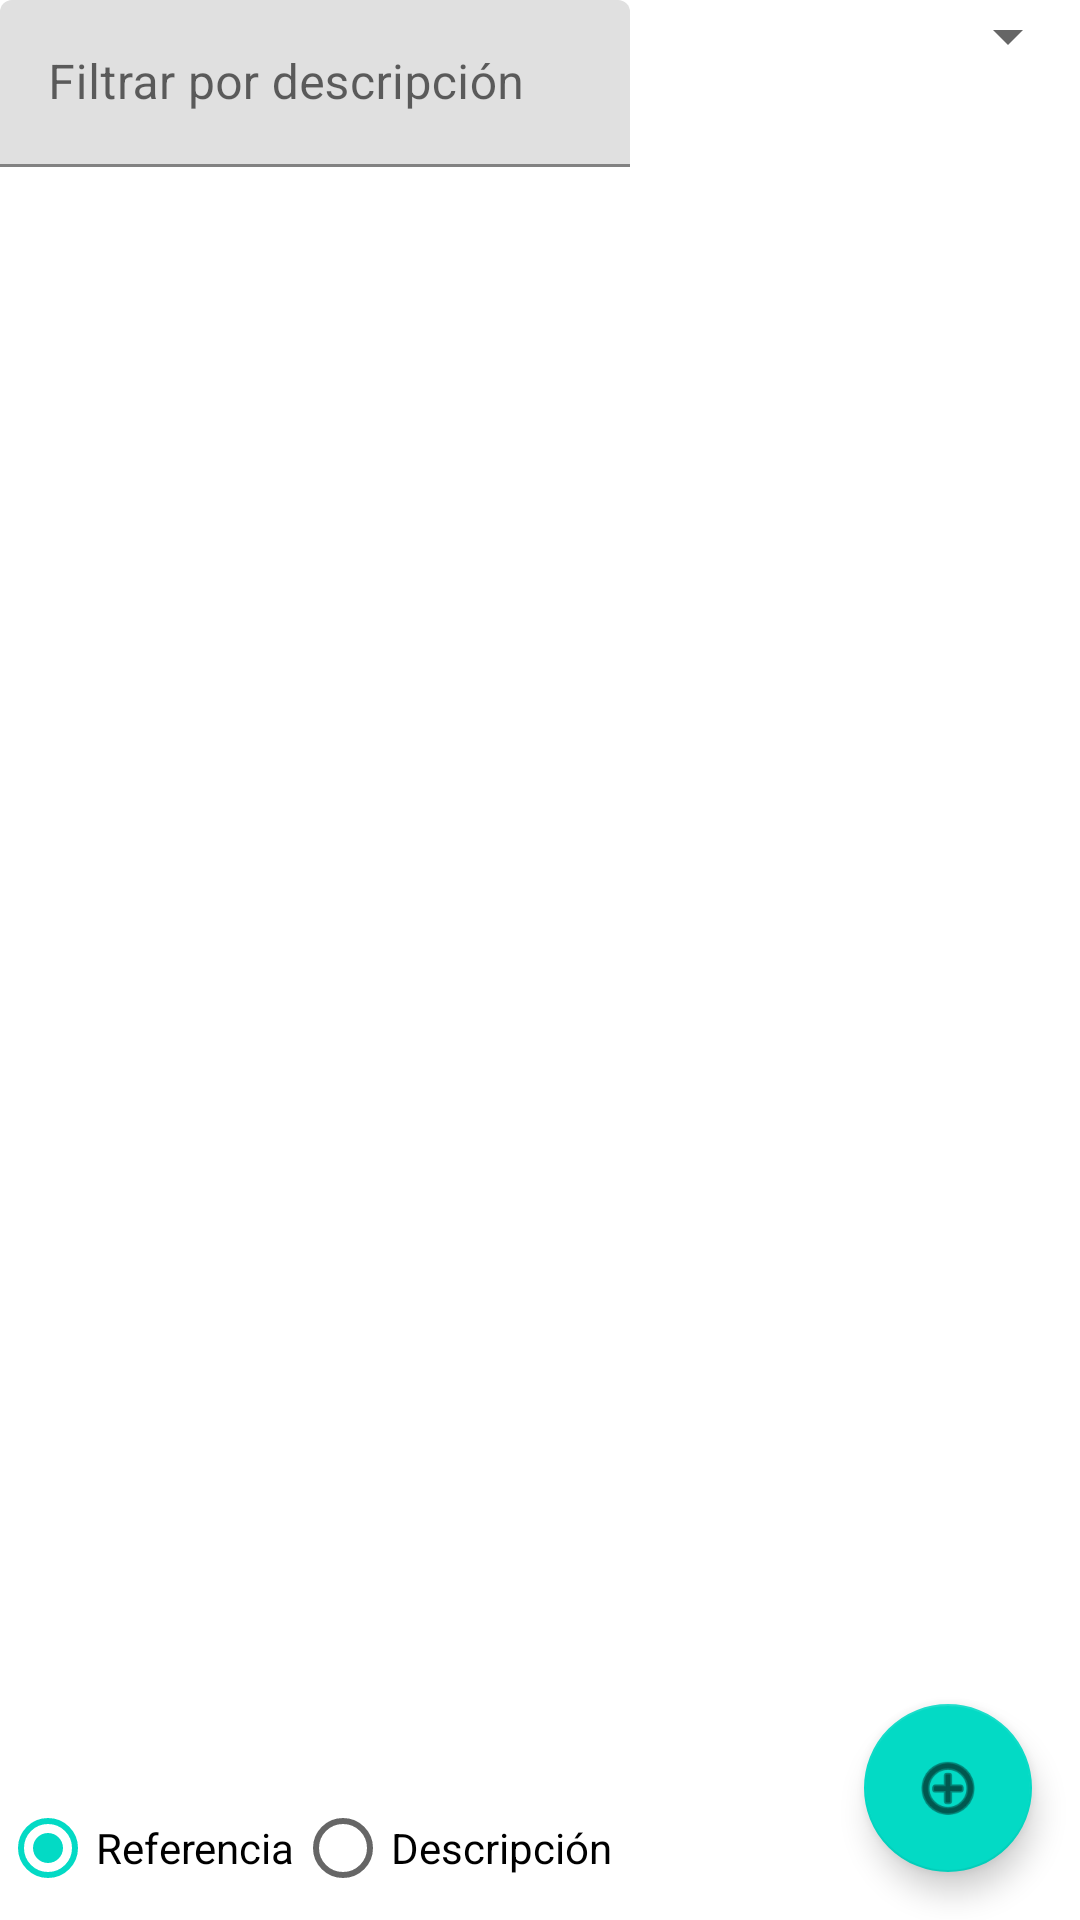

Icon click points for this 1080px×1920px phone screenshot, format (x,y):
Añadir nueva referencia: (948,1788)
